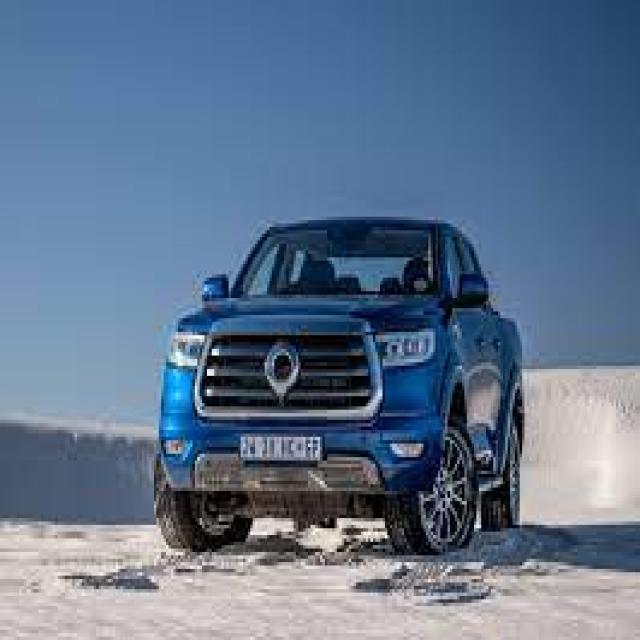Pickup Trucks: (154, 216, 527, 558)
